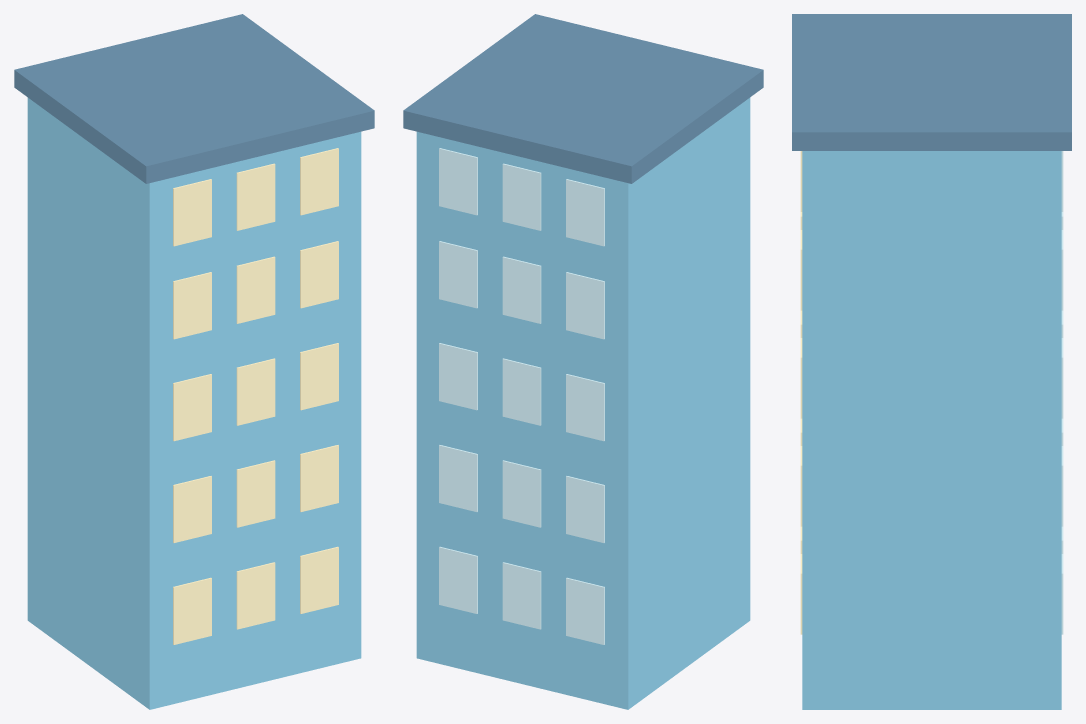
Rendered from city-building.glb.
3 renders of one model, left to right at view 1: azimuth 30°, elevation 25°; view 2: azimuth 150°, elevation 25°; view 3: azimuth 270°, elevation 25°, orthographic. The views are drawn at different scales.
Parts seen in each view (by area): view 1: Part0, Part1, Part2; view 2: Part0, Part1, Part3; view 3: Part0, Part1, Part2, Part3.
Part boxes in pixels (x1,y1,x2,y2): Part0: (27, 97, 361, 709); Part1: (14, 14, 374, 183); Part2: (173, 148, 338, 644); Part0: (416, 97, 750, 709); Part1: (403, 14, 763, 183); Part3: (439, 148, 604, 644); Part0: (802, 151, 1061, 709); Part1: (792, 14, 1071, 150); Part2: (800, 151, 802, 634); Part3: (1061, 151, 1063, 634).
Size of the model in its own units: 5.4 by 12.4 by 5.4.
